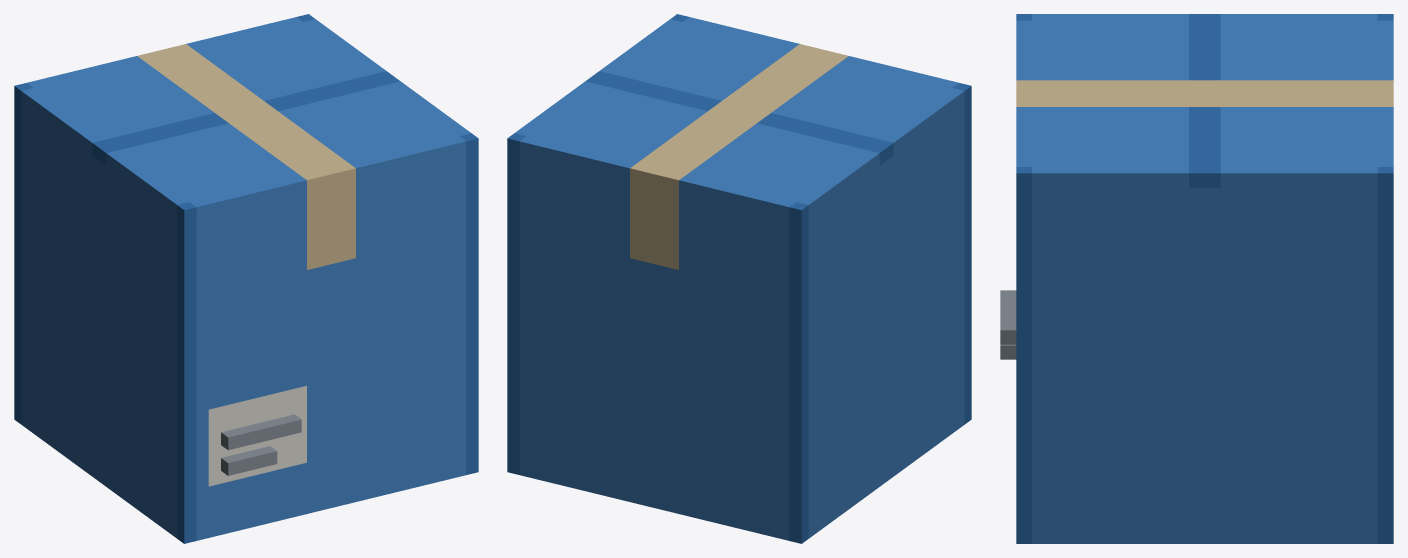
Rendered from package-blue.glb.
3 renders of one model, left to right at view 1: azimuth 30°, elevation 25°; view 2: azimuth 150°, elevation 25°; view 3: azimuth 270°, elevation 25°, orthographic. The views are drawn at different scales.
Parts seen in each view (by area): view 1: prop; view 2: prop; view 3: prop.
Boxes of the visible parts, x1,y1,x2,y2 form: prop: (14,14,478,543); prop: (507,14,971,543); prop: (1000,14,1393,543).
Size of the model in its own units: 14.77 by 16 by 15.38.
